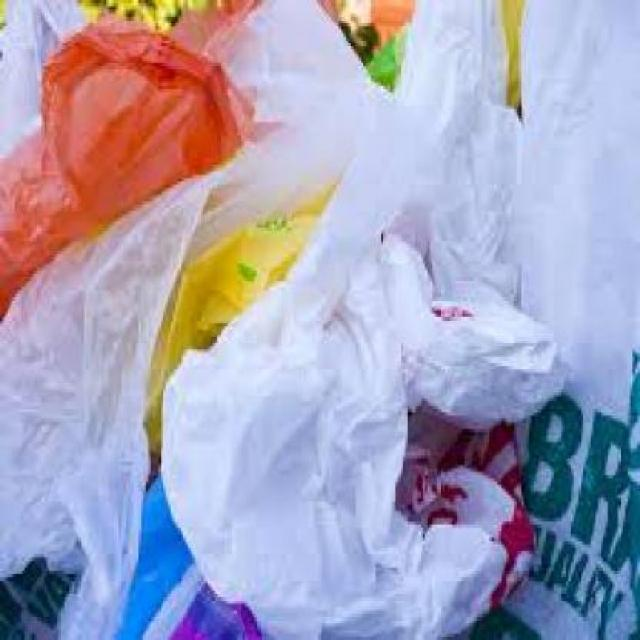plastic bag: (0, 9, 632, 633)
